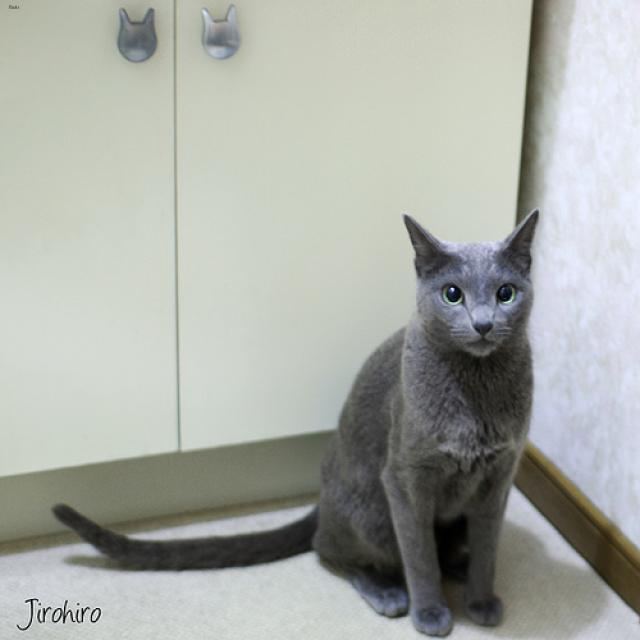Russian_Blue: (400, 203, 551, 363)
